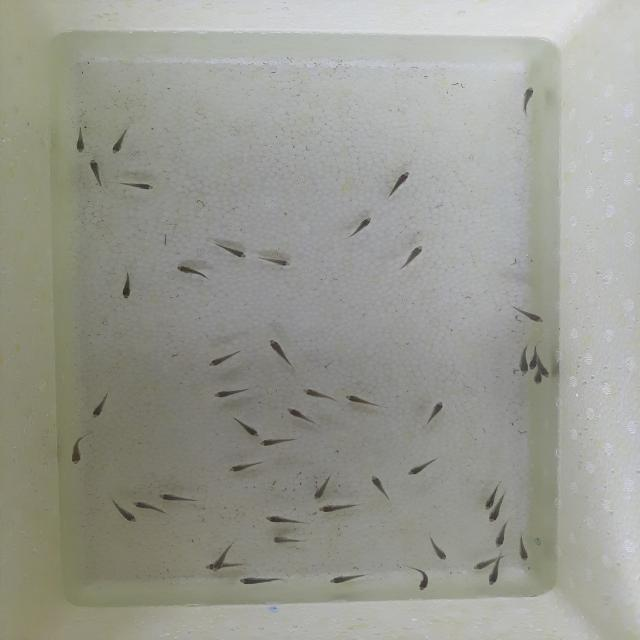fingerling: (264, 338, 300, 364), (472, 558, 501, 580), (207, 351, 242, 368), (389, 170, 411, 196), (428, 535, 449, 562), (233, 420, 261, 439), (401, 462, 432, 479), (367, 473, 389, 496), (110, 132, 132, 155), (513, 306, 544, 322), (290, 408, 317, 426), (346, 392, 379, 406), (261, 436, 296, 449), (131, 499, 163, 513), (327, 575, 366, 586), (264, 511, 294, 525), (115, 506, 138, 524), (487, 561, 504, 585), (430, 398, 450, 418), (67, 137, 90, 154), (415, 568, 431, 592), (406, 244, 425, 264), (236, 576, 274, 586), (156, 493, 194, 503), (520, 90, 534, 116), (212, 548, 226, 574), (178, 266, 208, 278), (351, 220, 373, 236), (68, 444, 84, 466), (231, 463, 265, 473), (312, 478, 328, 499), (122, 270, 134, 298), (302, 388, 330, 400), (215, 247, 245, 258), (492, 528, 507, 550), (258, 256, 291, 266), (88, 161, 105, 180), (478, 493, 498, 509), (274, 536, 309, 545), (215, 388, 248, 397), (90, 401, 107, 418), (488, 505, 504, 523), (520, 542, 532, 565), (319, 507, 357, 514), (118, 181, 151, 189), (204, 563, 244, 569), (526, 357, 540, 369), (519, 357, 528, 375), (532, 372, 542, 384), (542, 365, 550, 378)
